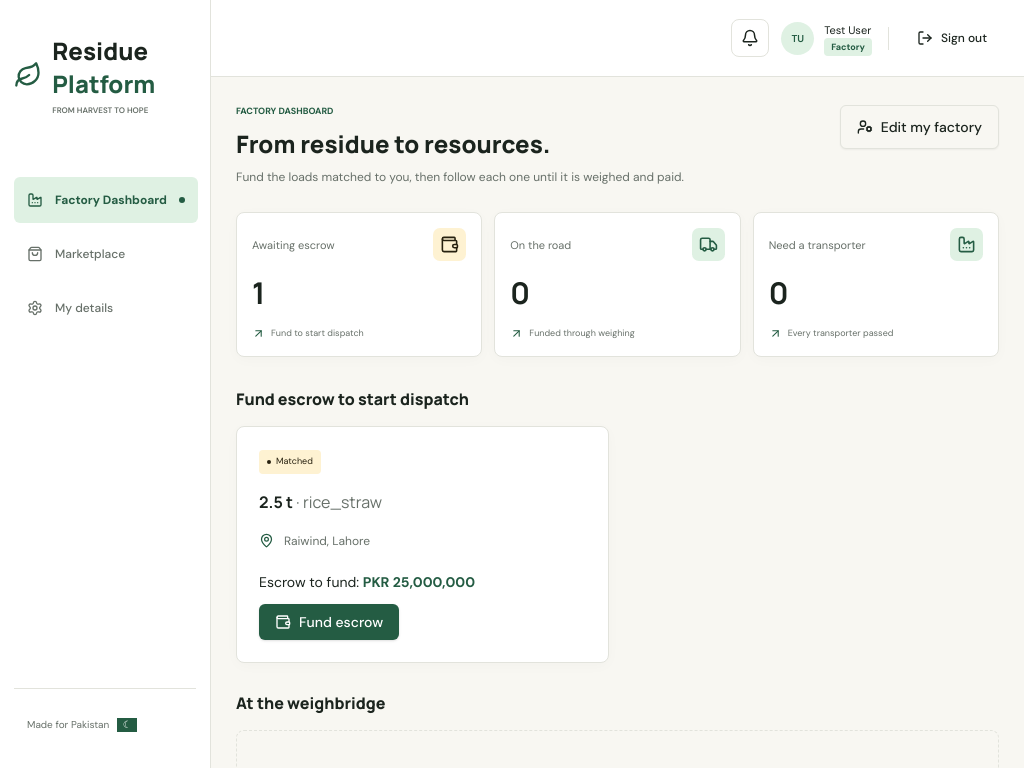
Scenario: factory: fund escrow › the button spins and the dialog locks while the request is in flight
Click the button "Fund escrow". click: {"x": 329, "y": 622}
box: left=259, top=604, right=399, bottom=640
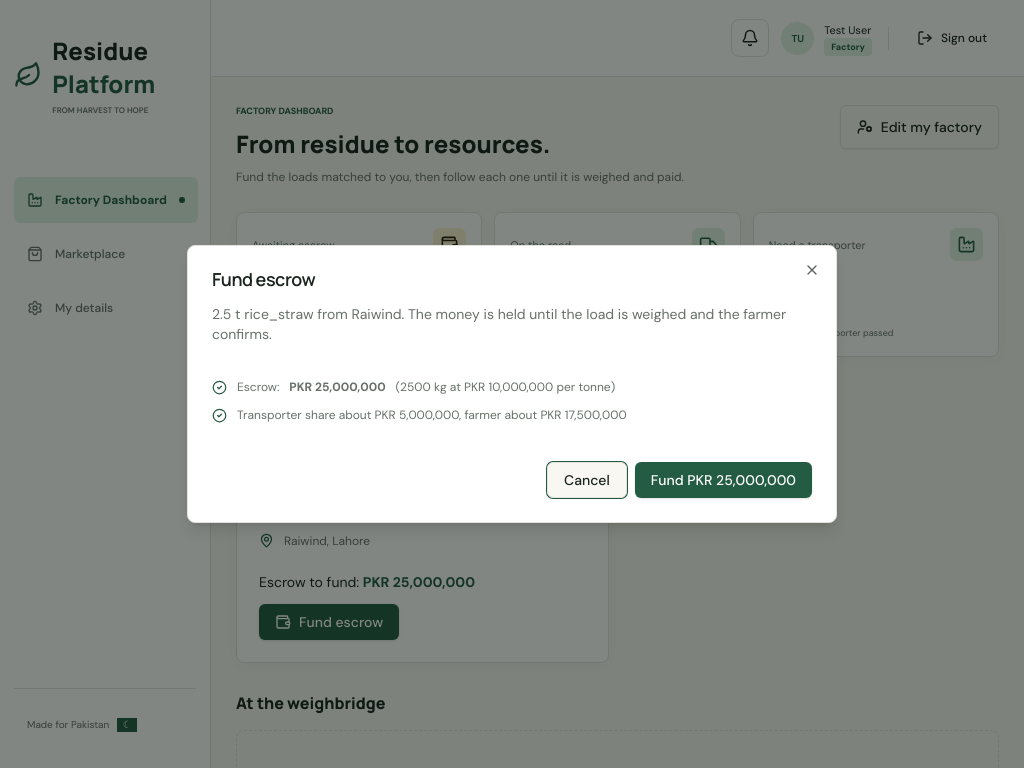
Click the button "Fund PKR 25,000,000". click: {"x": 723, "y": 480}
box: left=635, top=462, right=812, bottom=498
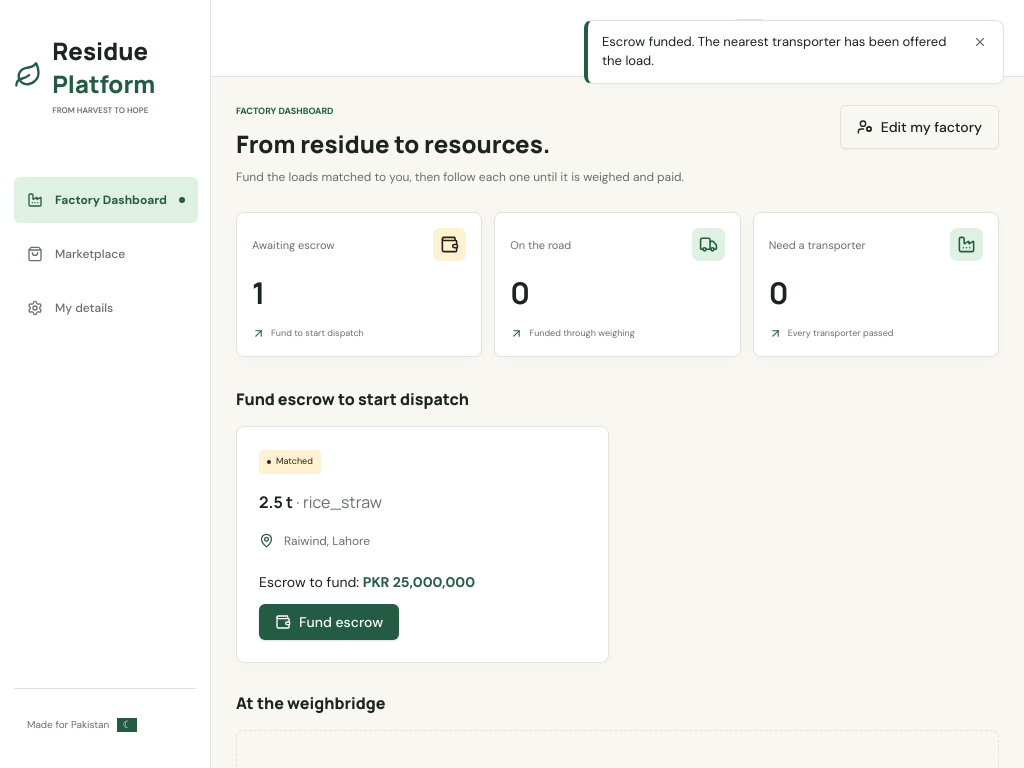
Check: the dialog is gone
